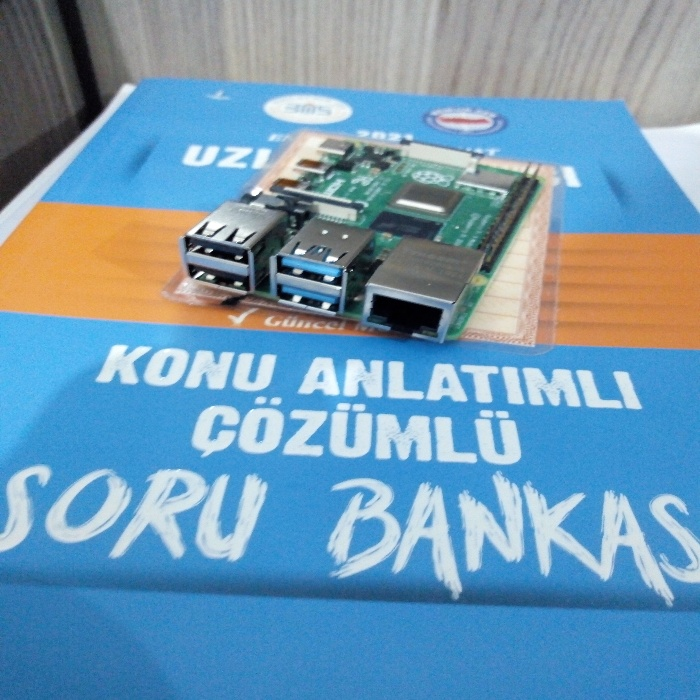raspberry: (143, 119, 559, 343)
